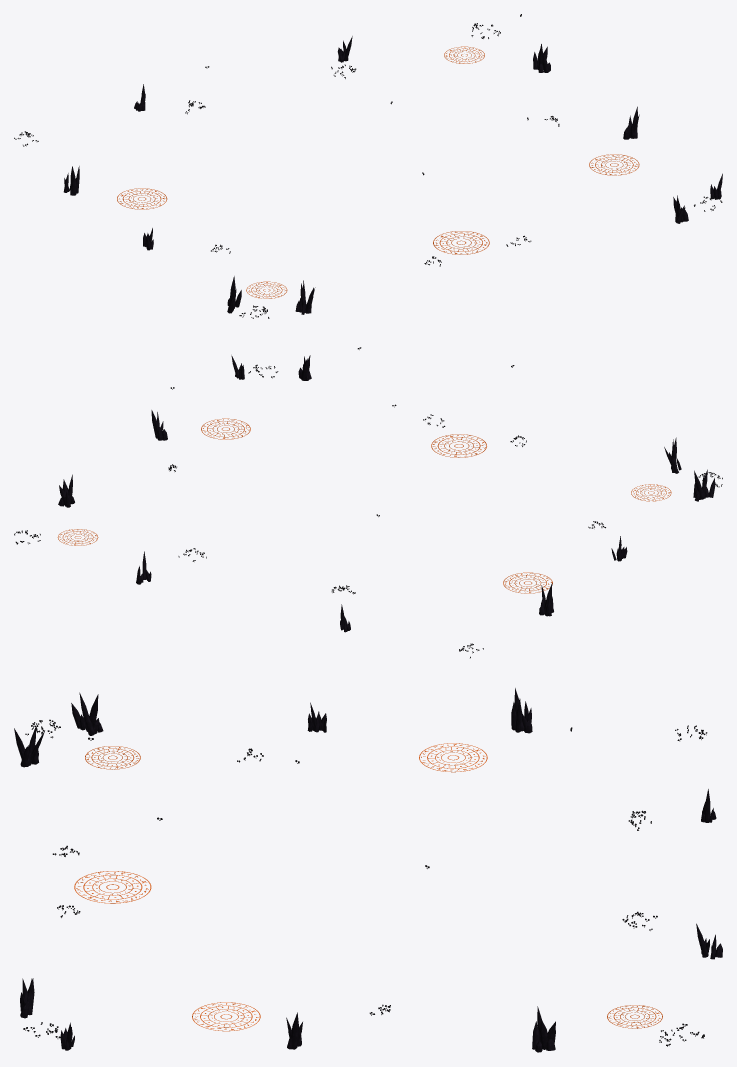
The model's file is tb_hellx3_p2.glb.
3 renders of one model, top to bottom at view 1: azimuth 30°, elevation 25°; view 2: azimuth 150°, elevation 25°; view 3: azimuth 270°, elevation 25°, orthographic. The views are drawn at different scales.
Parts seen in each view (by area): view 1: tb_hellx3_p2; view 2: tb_hellx3_p2; view 3: tb_hellx3_p2.
Part boxes in pixels (box(x1,y1,x2,y2)): tb_hellx3_p2: box(14, 14, 722, 318); tb_hellx3_p2: box(14, 347, 722, 658); tb_hellx3_p2: box(14, 688, 722, 1052).
Bounding box in the file's own units: 68.23 × 13.7 × 62.46.
Materials: 3 (2 with a texture image).
